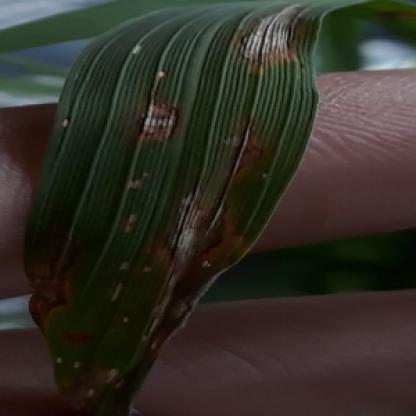Rice blast: (154, 115, 270, 319), (244, 4, 310, 77), (23, 250, 79, 333), (66, 364, 123, 416), (133, 96, 179, 157)
